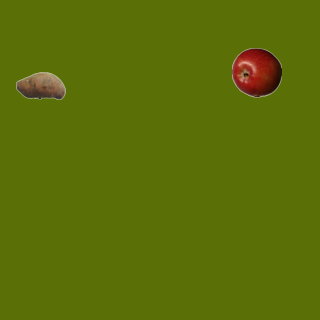Apple Braeburn: (231, 47, 281, 97)
Potato Sweet: (15, 60, 65, 110)
